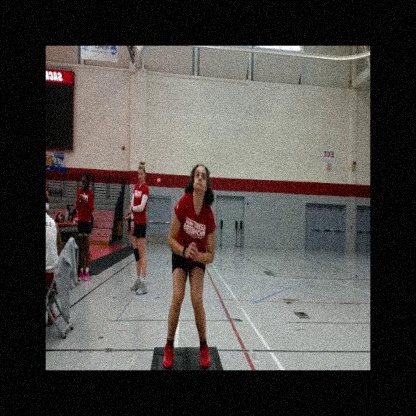lateral_flexion_right: (161, 163, 216, 370)
stance_width_normal: (162, 189, 215, 370)
